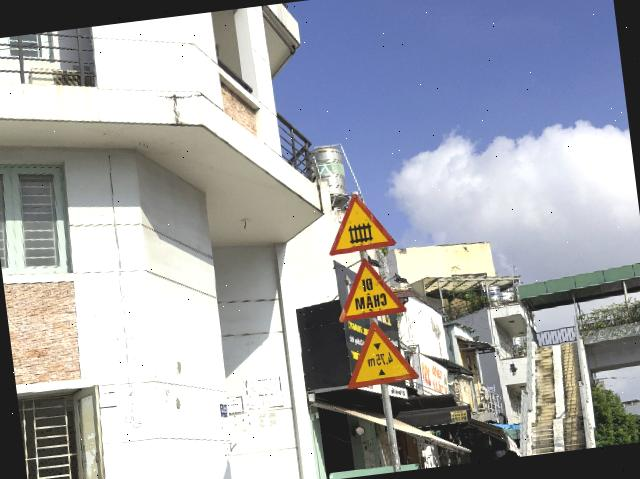chieu-cao-tinh-khong-thuc-te: (340, 316, 420, 390)
di-cham: (332, 254, 406, 322)
noi-giao-nhau-voi-duong-sat-co-rao-chan: (322, 188, 396, 256)
